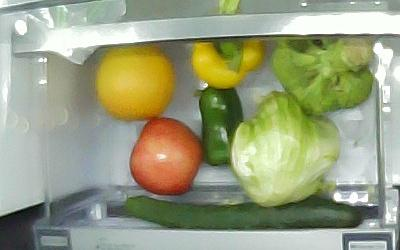apple: (129, 117, 203, 197)
broccoli: (271, 37, 373, 114)
cucumber: (121, 196, 363, 229)
grapefruit: (95, 45, 175, 121)
lettuce: (230, 90, 341, 208)
paprika: (193, 85, 243, 166), (192, 37, 265, 88)
